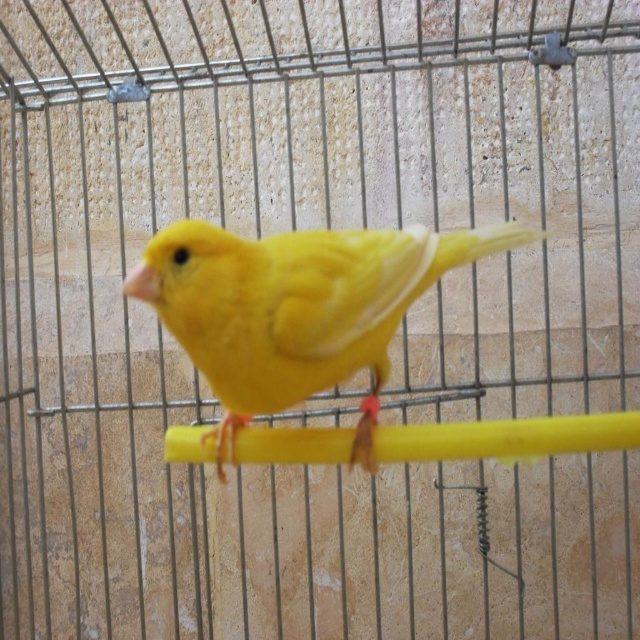Canary: (121, 218, 552, 479)
